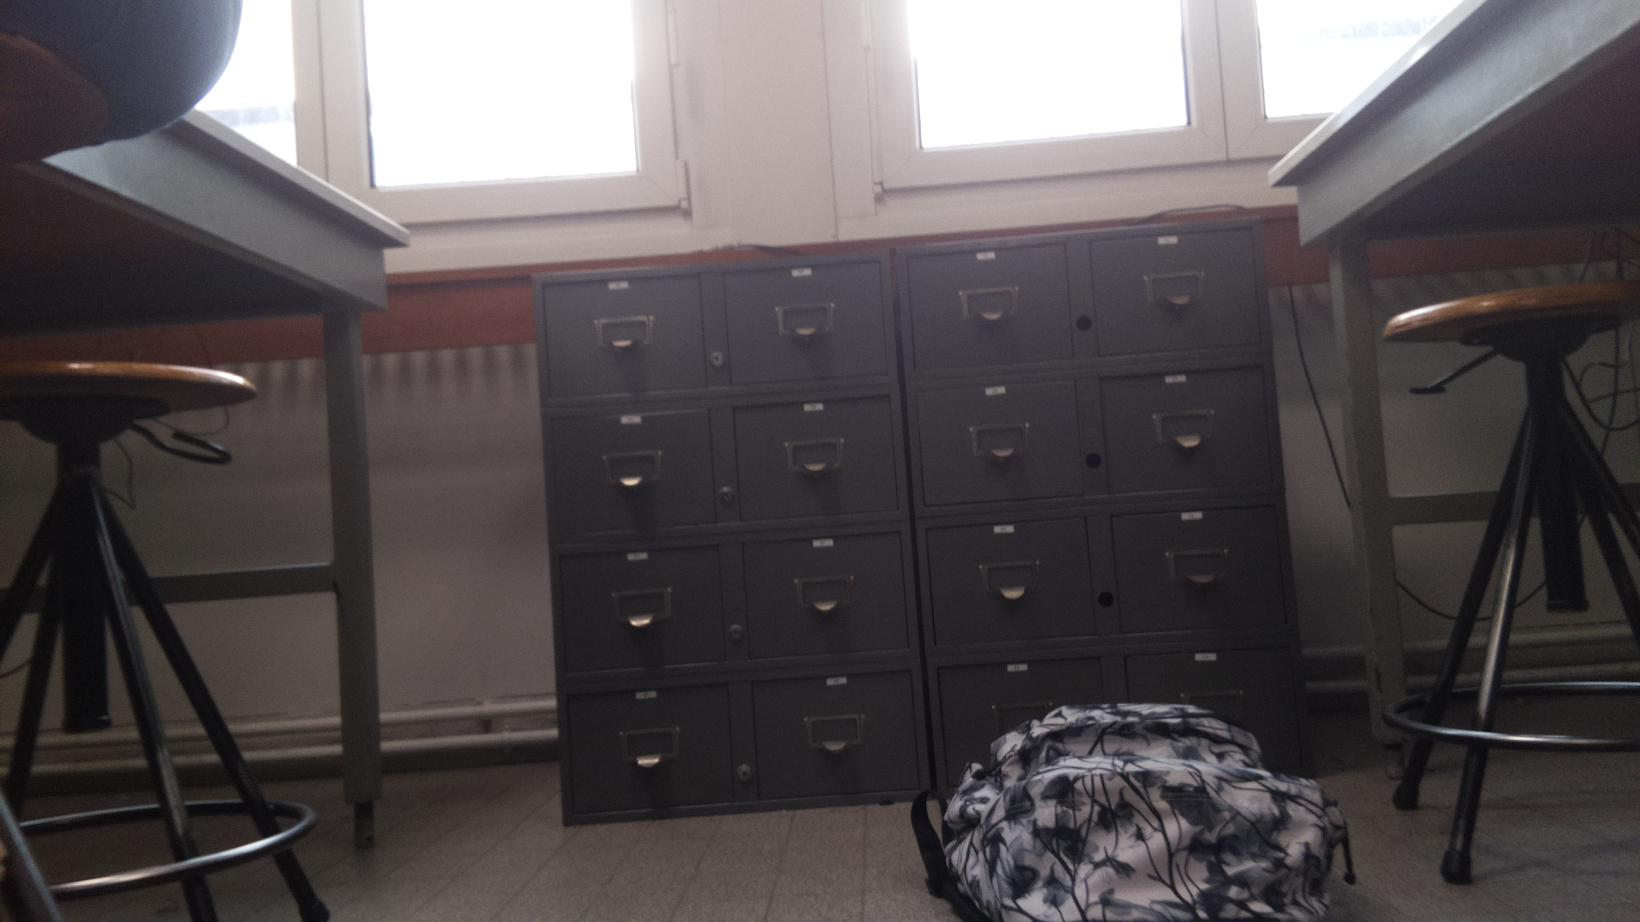big: (941, 695, 1351, 922)
